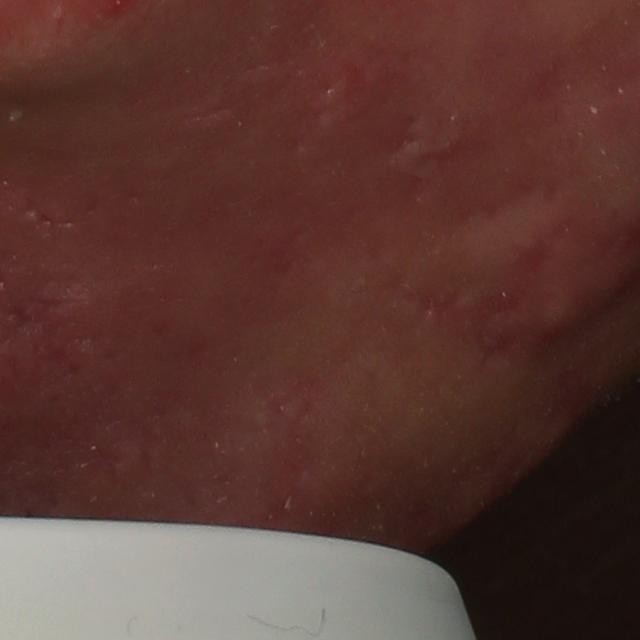hypertrophic_scar: (302, 76, 380, 152), (388, 110, 469, 183)
